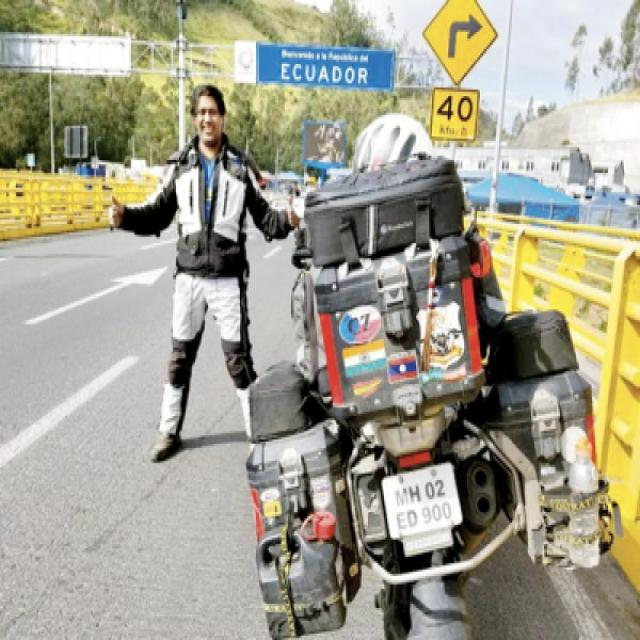Helmet: (353, 112, 451, 174)
